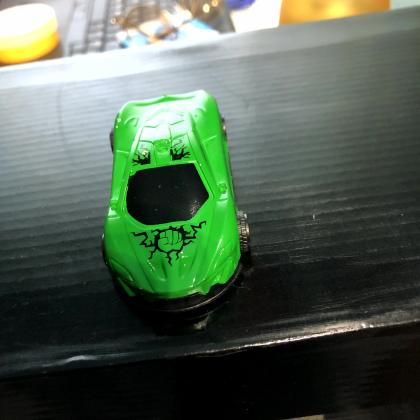Car: (103, 91, 244, 329)
